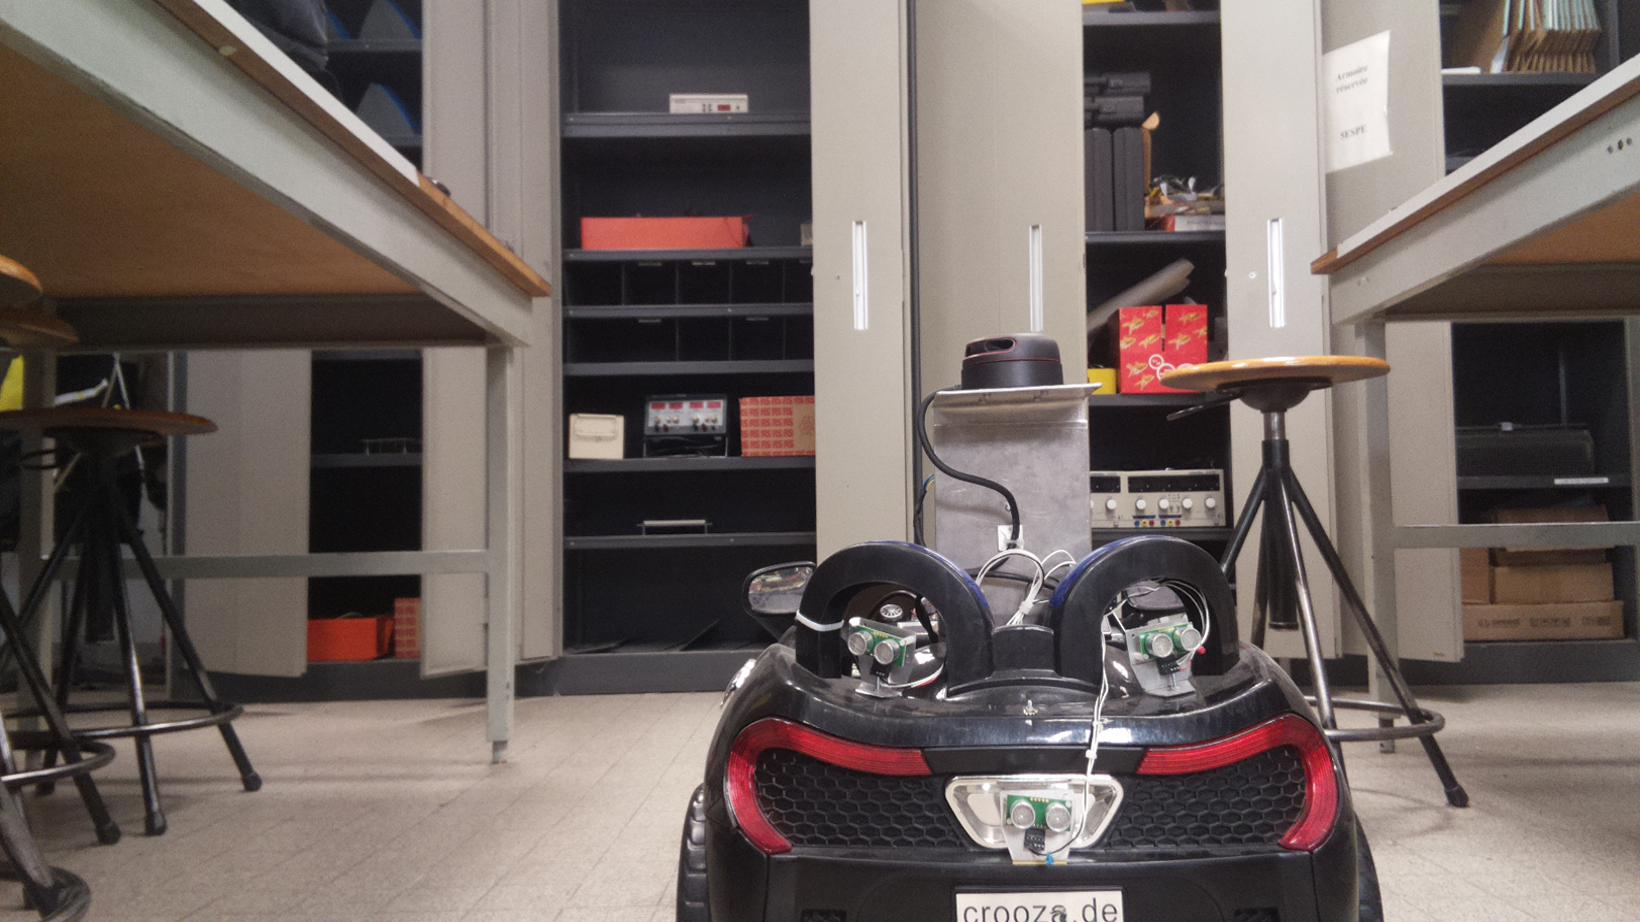big: (672, 326, 1398, 922)
